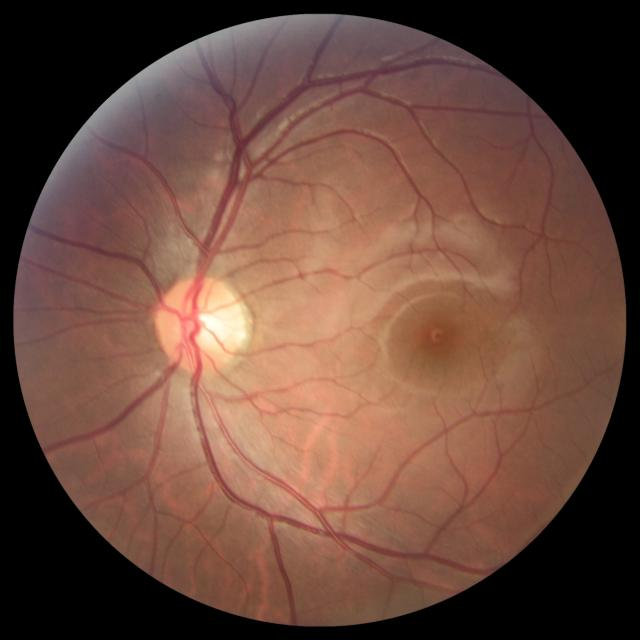OC: (186, 306, 227, 347)
OD: (156, 276, 246, 372)
